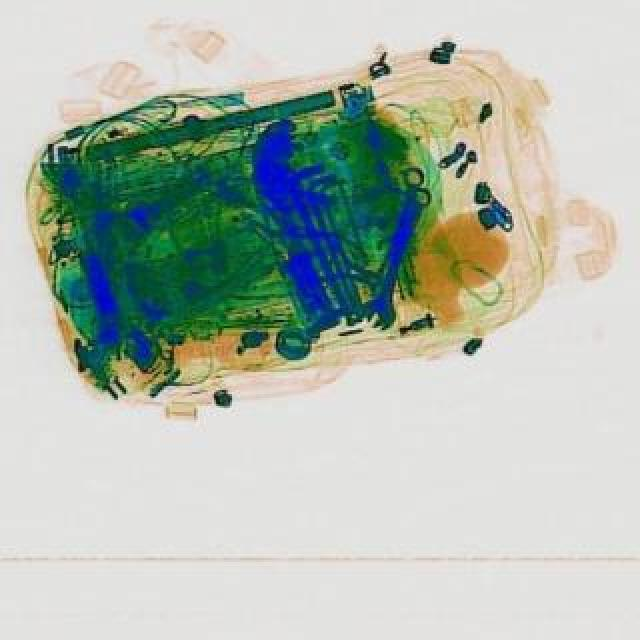scissors: (360, 166, 442, 334), (364, 190, 444, 336)
